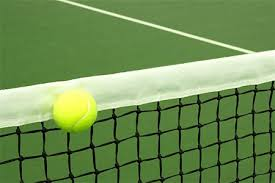tennis_ball: (50, 88, 96, 133)
